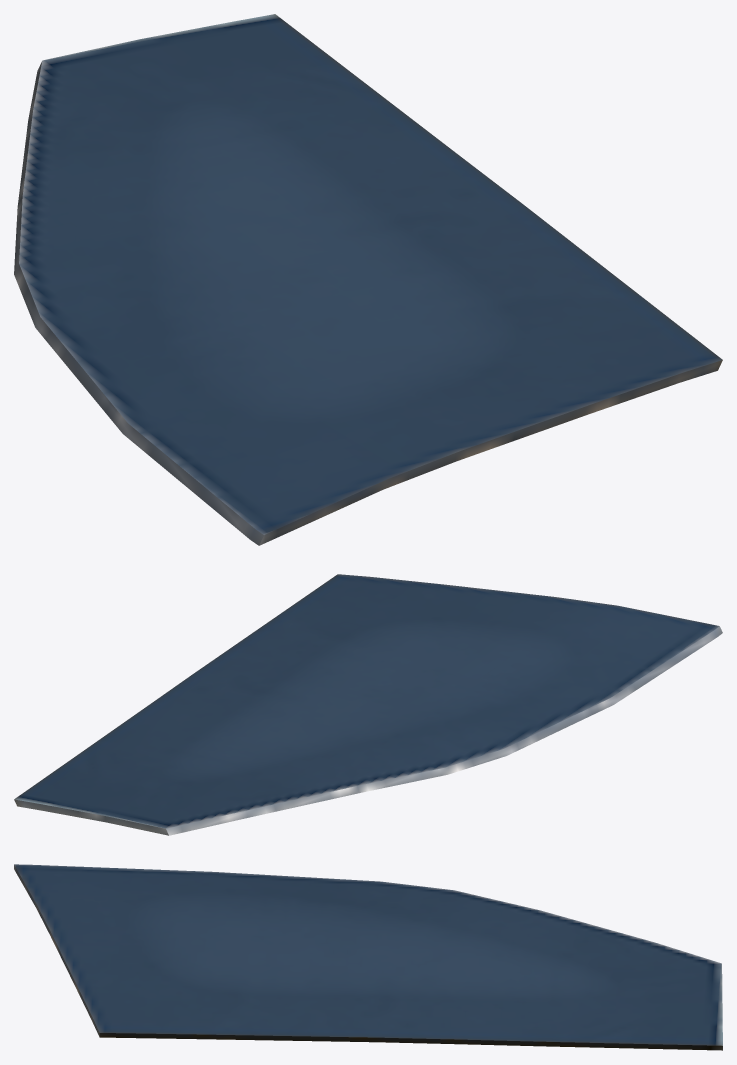
The model's file is FordCrownVic92FrontWindow_WorldItem.fbx.
3 views of the same model, one above another, from view 1: azimuth 30°, elevation 25°; view 2: azimuth 150°, elevation 25°; view 3: azimuth 270°, elevation 25° (orthographic). The views are drawn at different scales.
Visible parts, largest first — view 1: FrontRightWindow_obj; view 2: FrontRightWindow_obj; view 3: FrontRightWindow_obj.
Boxes of the visible parts, x1=… form: FrontRightWindow_obj: x1=14, y1=14, x2=722, y2=545; FrontRightWindow_obj: x1=14, y1=574, x2=722, y2=835; FrontRightWindow_obj: x1=14, y1=864, x2=722, y2=1050.
Size of the model in its own units: 0.8841 by 0.0405 by 1.49.
